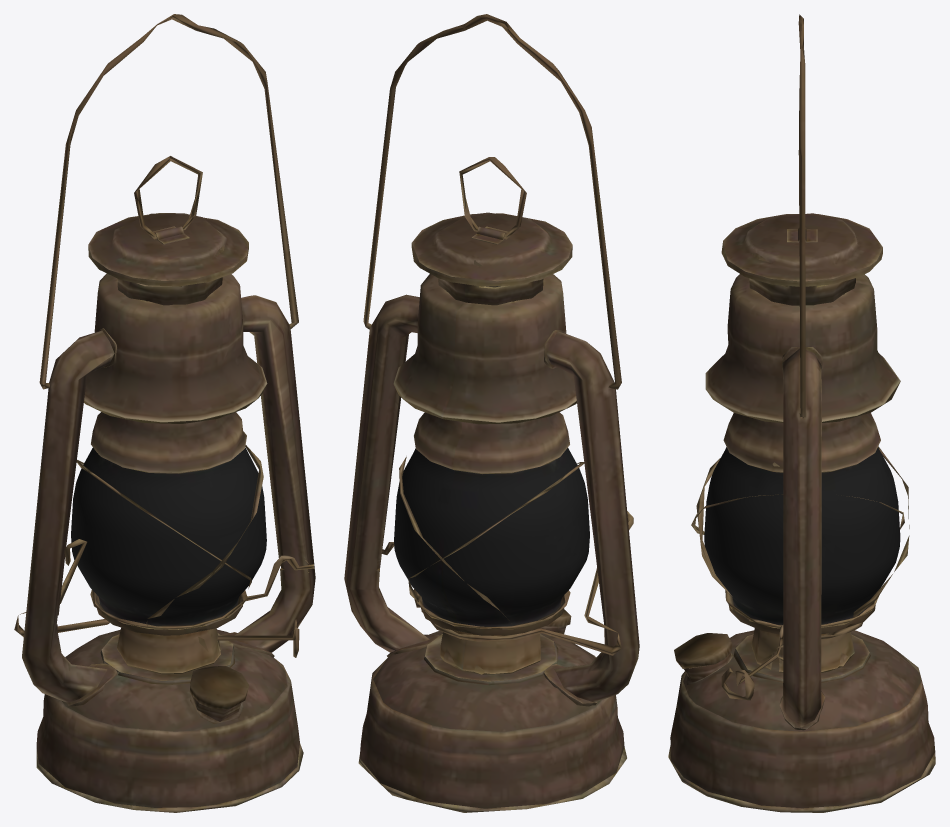
The model's file is Lantern_01.glb.
3 renders of one model, left to right at view 1: azimuth 30°, elevation 25°; view 2: azimuth 150°, elevation 25°; view 3: azimuth 270°, elevation 25°, orthographic.
Visible parts, largest first — view 1: Lantern_01, Lantern_01_glass; view 2: Lantern_01, Lantern_01_glass; view 3: Lantern_01, Lantern_01_glass.
Part boxes in pixels (x1=…): Lantern_01: x1=14, y1=14, x2=315, y2=812; Lantern_01_glass: x1=71, y1=447, x2=266, y2=625; Lantern_01: x1=344, y1=14, x2=639, y2=812; Lantern_01_glass: x1=394, y1=448, x2=589, y2=626; Lantern_01: x1=668, y1=14, x2=935, y2=812; Lantern_01_glass: x1=704, y1=447, x2=900, y2=624.
Size of the model in its own units: 0.1219 by 0.2939 by 0.0962.
Materials: 2 (2 with a texture image).
